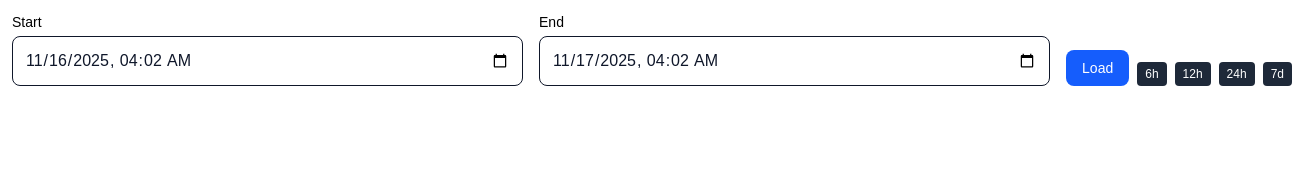
DateRangeSelector – Integration › shows error when range < 6 hours
Replace the text in the field labelled "Start" with "2025-01-01T00:00" at [268, 61], box [12,36,523,86]
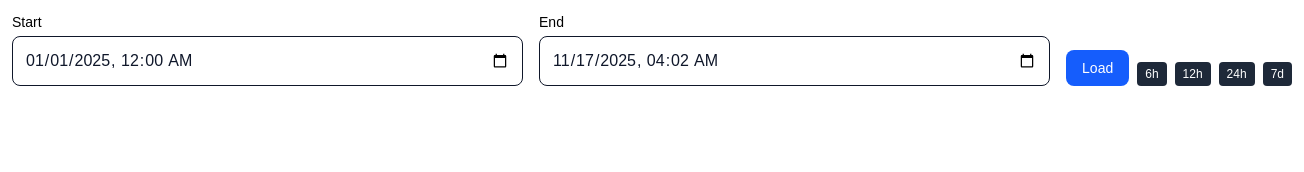
Replace the text in the field labelled "End" with "2025-01-01T03:00" at [794, 61], box [539,36,1050,86]
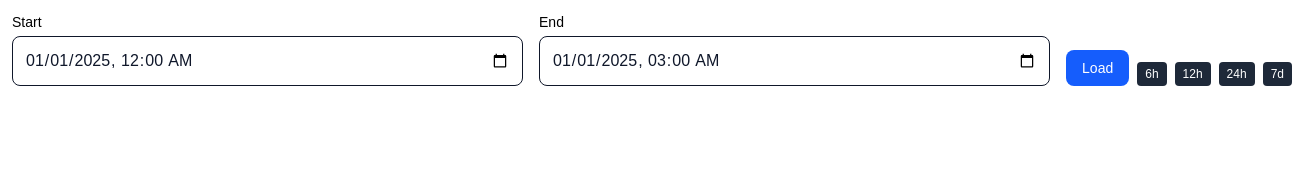
Click the button "Load" at [1098, 68], box [1066,50,1129,86]
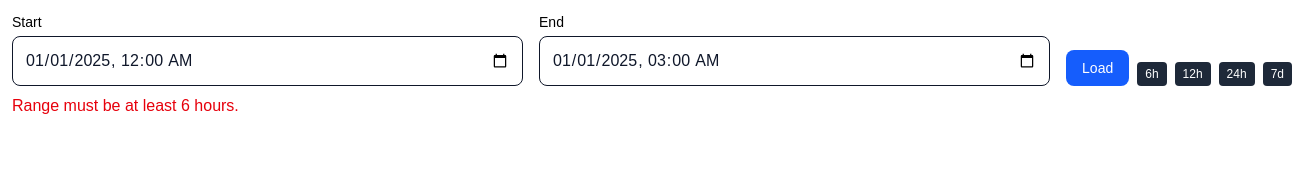
Expected: the text "Range must be at least 6 hours." is shown, [12,97,239,114]
